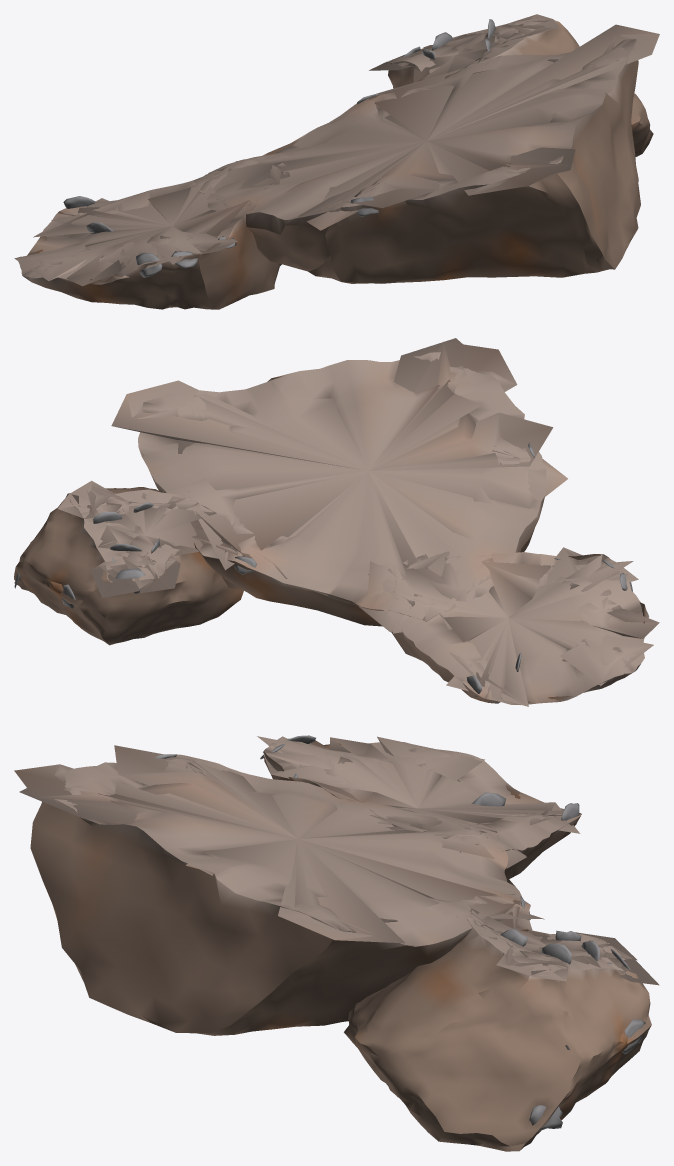
Rendered from metal-node-3.glb.
3 renders of one model, top to bottom at view 1: azimuth 30°, elevation 25°; view 2: azimuth 150°, elevation 25°; view 3: azimuth 270°, elevation 25°, orthographic. The views are drawn at different scales.
Parts seen in each view (by area): view 1: Body_LOD0; view 2: Body_LOD0; view 3: Body_LOD0.
Boxes of the visible parts, x1,y1,x2,y2 form: Body_LOD0: (14,14,659,309); Body_LOD0: (14,338,659,706); Body_LOD0: (14,735,659,1151).
Size of what is drawn, in the model's own units: 1.85 by 0.5109 by 1.38.
